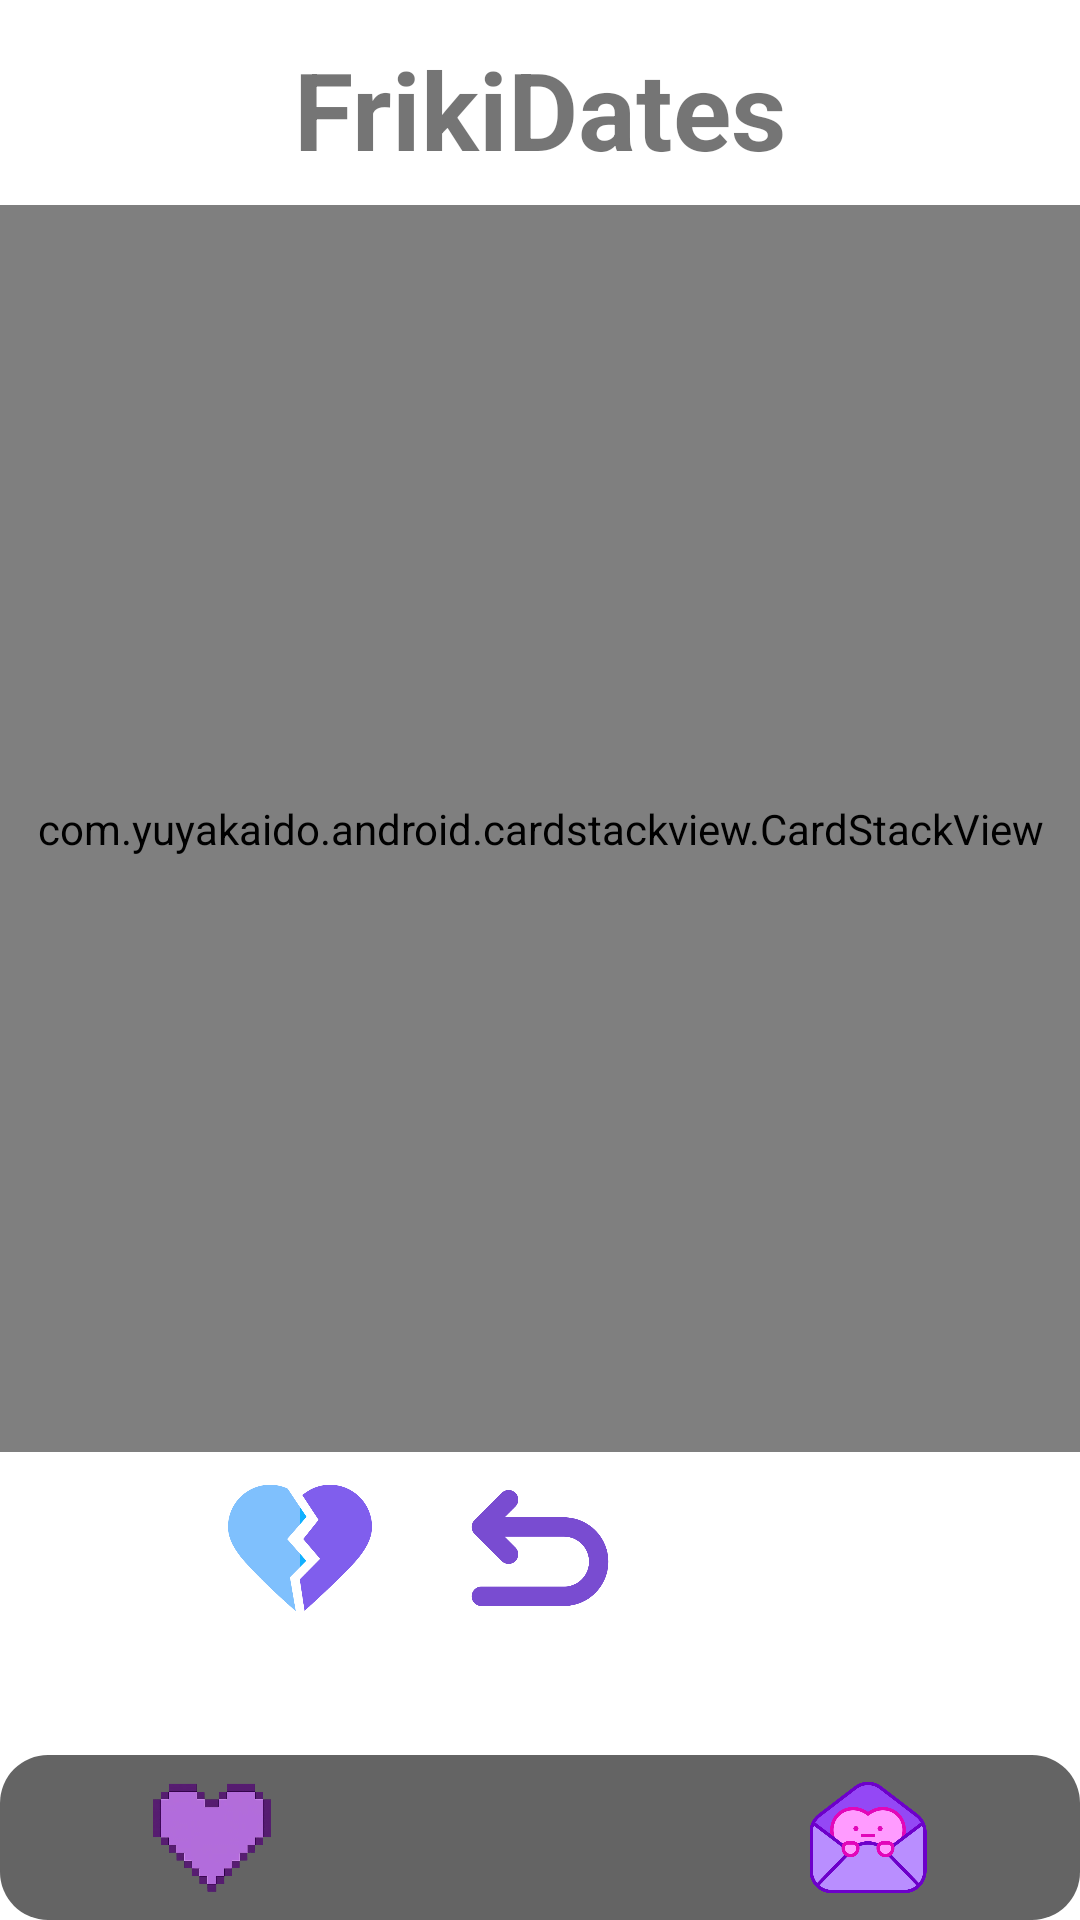

Icon click points for this 1080 x 1920 phone screenshot, format (x,y):
Dislike: (300,1548)
Rewind: (540,1548)
